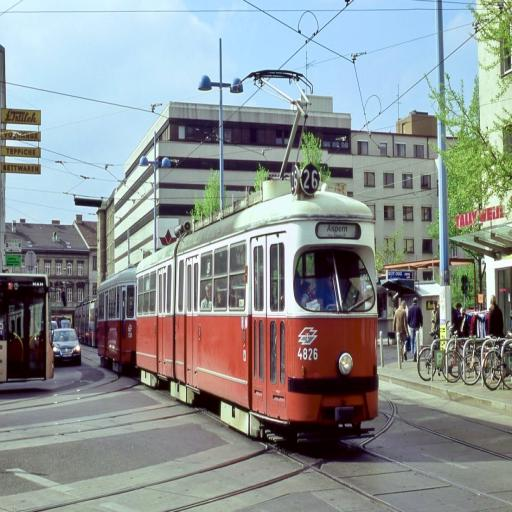E2-Tram: (97, 166, 381, 424)
